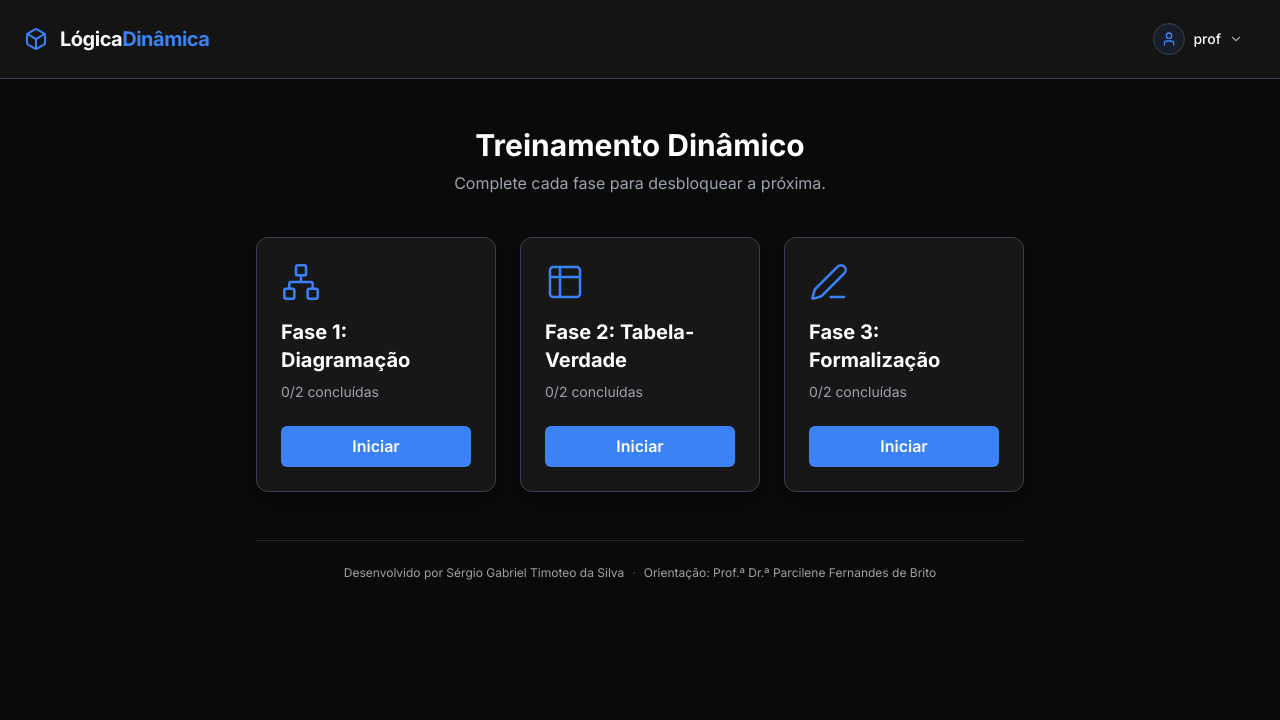
Scenario: Ações de Validação na Navbar e Feedback Flutuante › mantém o botão Validar no rodapé tradicional para questões de formalização simples
This screenshot has width=1280, height=720.
Inicia a Fase 3 (Formalização Simples)
What coordinates should you click on to do the following:
click the button "Iniciar" below "Formalização"
I would click on:
 (904, 446)
Its box is [809,426,999,467].
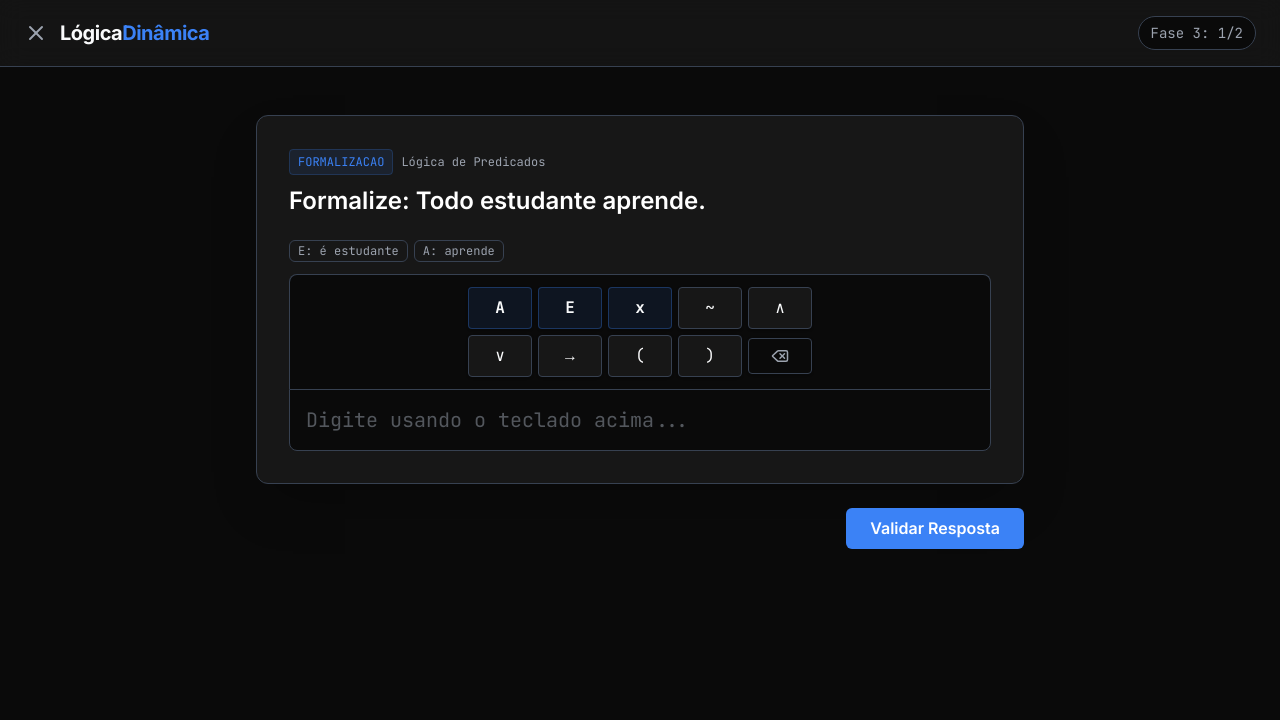
Now the button "Validar Resposta" is shown, box [846,508,1024,549]
